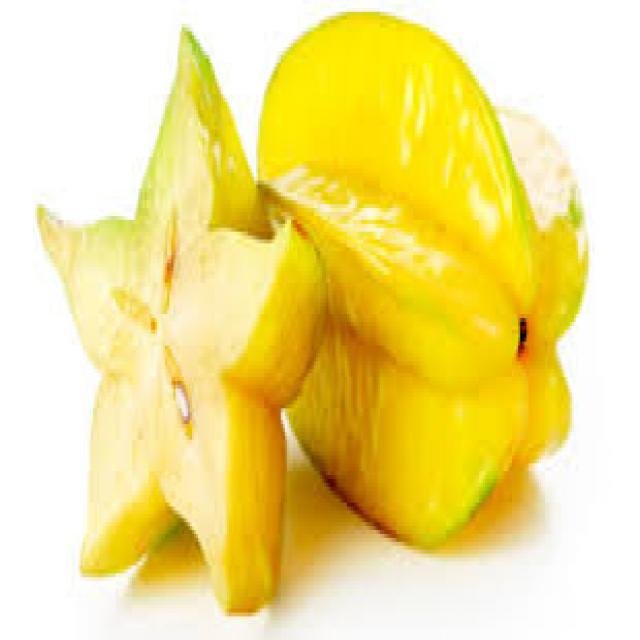organic waste: (256, 8, 586, 550), (35, 24, 324, 608)
